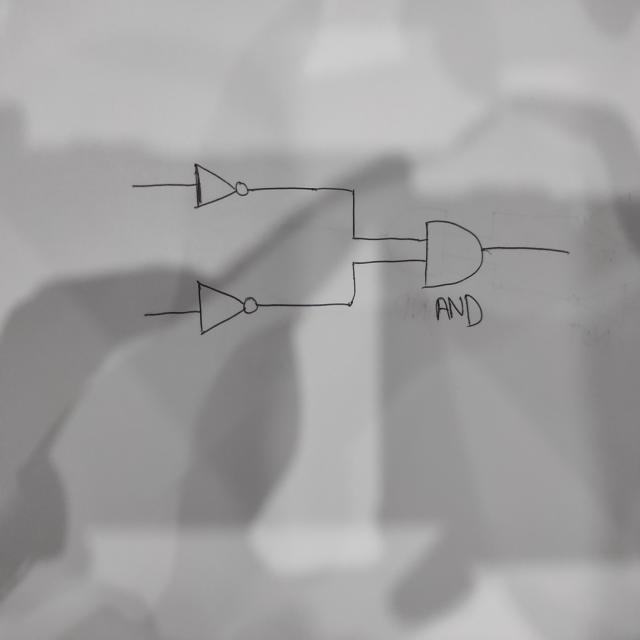junction: (345, 295, 355, 310), (348, 256, 357, 267), (348, 185, 357, 196), (349, 232, 356, 243)
terminal: (140, 308, 152, 322), (129, 181, 141, 191), (561, 246, 571, 258)
text: (432, 290, 483, 328)
